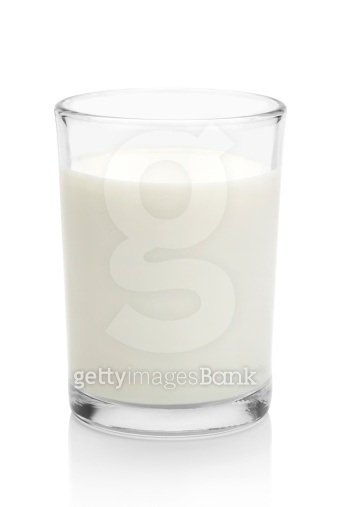glass of milk: (56, 83, 286, 434)
